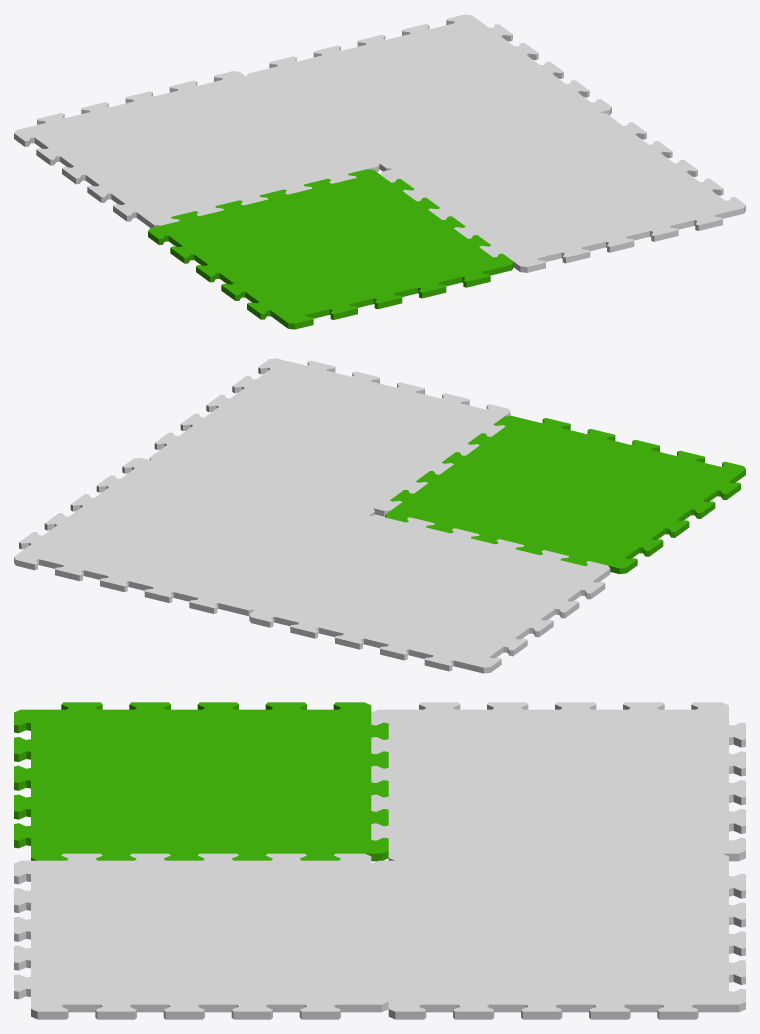
Rendered from Set_Gomas.fbx.
3 renders of one model, top to bottom at view 1: azimuth 30°, elevation 25°; view 2: azimuth 150°, elevation 25°; view 3: azimuth 270°, elevation 25°, orthographic. The views are drawn at different scales.
Visible parts, largest first — view 1: Goma, Goma.001, Goma.002, Goma.003; view 2: Goma.002, Goma.003, Goma, Goma.001; view 3: Goma.001, Goma.003, Goma, Goma.002.
Boxes of the visible parts, box(x1,y1,x2,y2) form: Goma: box(148, 169, 513, 329); Goma.001: box(380, 112, 745, 272); Goma.002: box(14, 71, 379, 227); Goma.003: box(246, 14, 611, 171); Goma.002: box(249, 515, 610, 673); Goma.003: box(14, 457, 374, 616); Goma: box(385, 415, 745, 574); Goma.001: box(149, 358, 510, 516); Goma.001: box(14, 853, 388, 1019); Goma.003: box(371, 853, 745, 1019); Goma: box(14, 702, 388, 861); Goma.002: box(371, 702, 745, 861).
Size of the model in its own units: 430 by 5 by 430.
